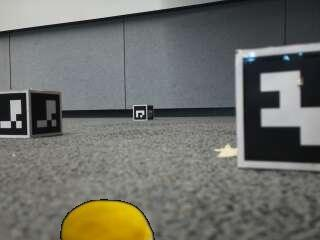lemon: (61, 201, 153, 240)
